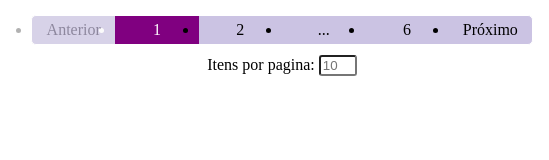
Test: BookTable › shows errorMsg if items per page is less than 5
Type "4" into the number field with test id "pagination-limit-input".
click(338, 66); type("4")  # box [319,55,357,76]
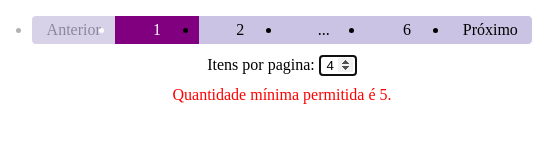
Check: the text with test id "pagination-errorMsg" reads "Quantidade mínima permitida é 5.", box [173,86,392,104]
